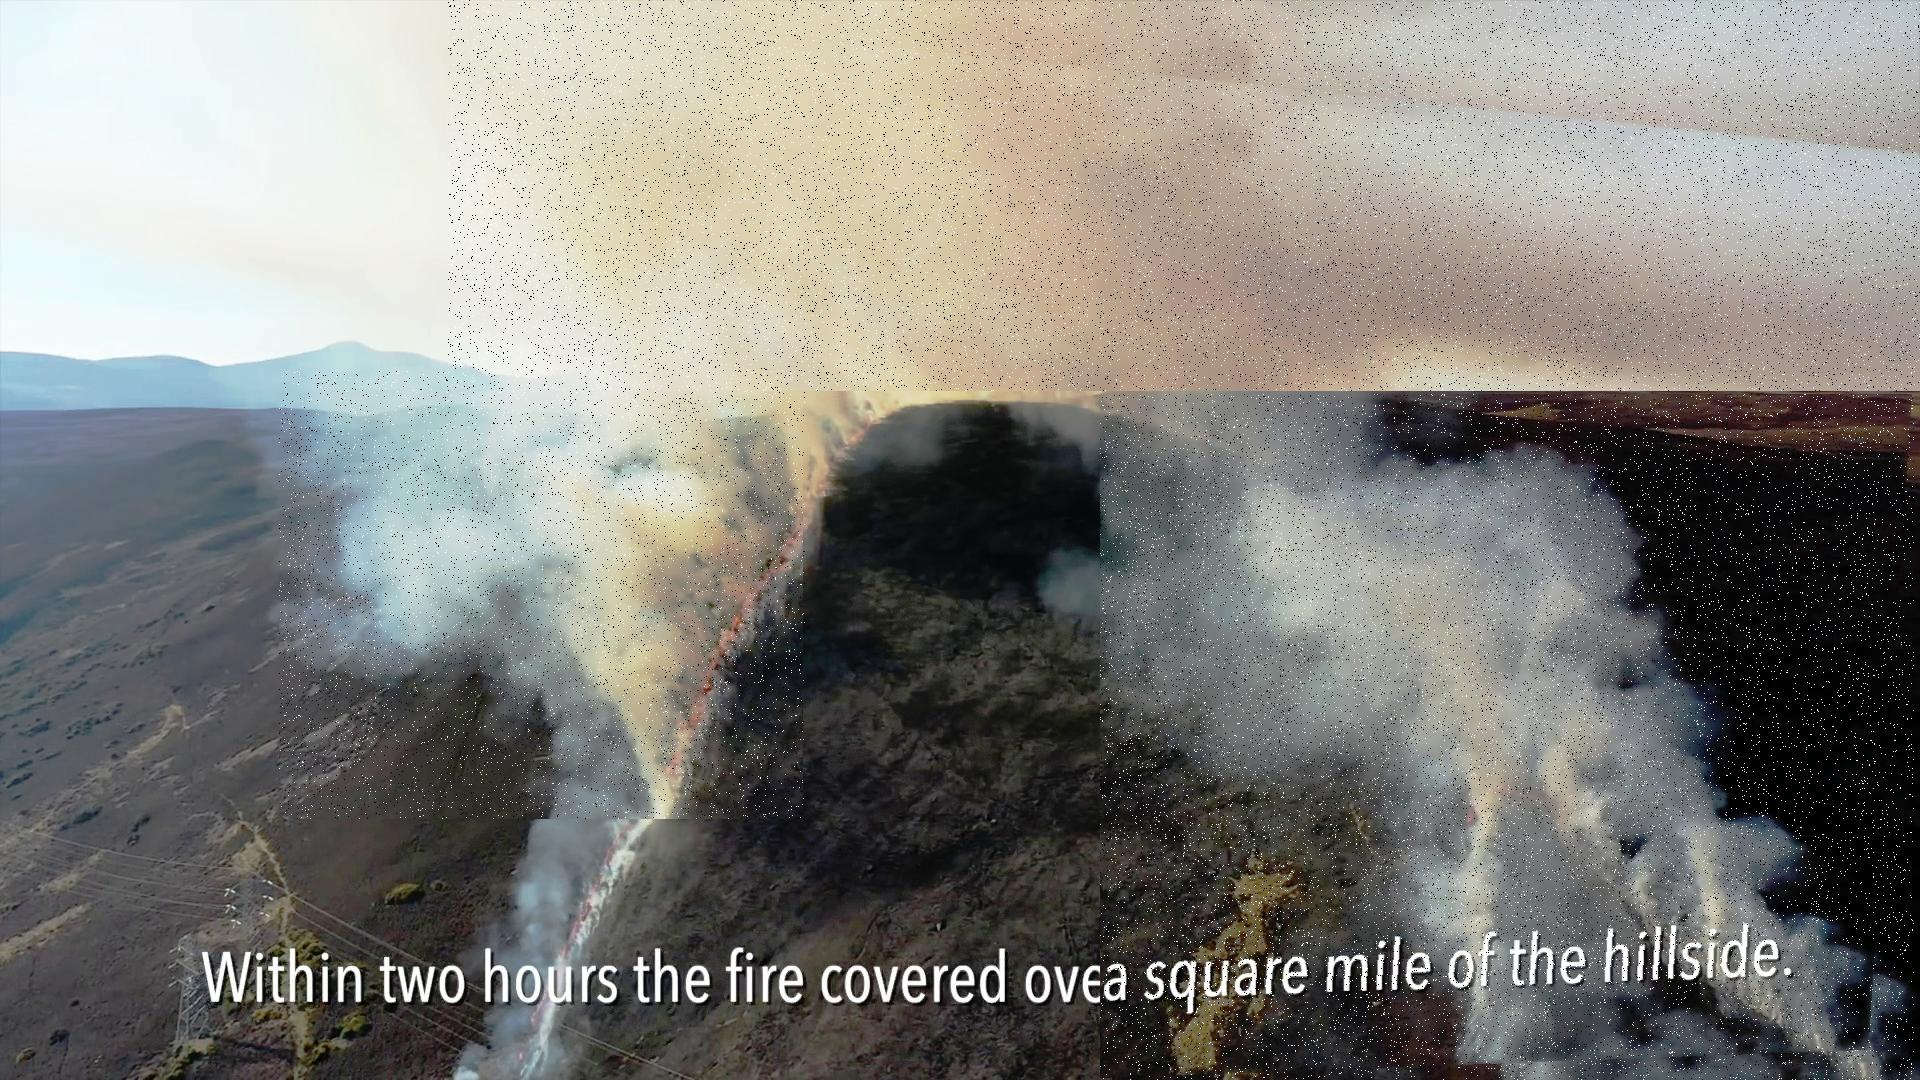smoke: (448, 0, 1920, 392), (1100, 394, 1913, 1080), (280, 371, 806, 819)
